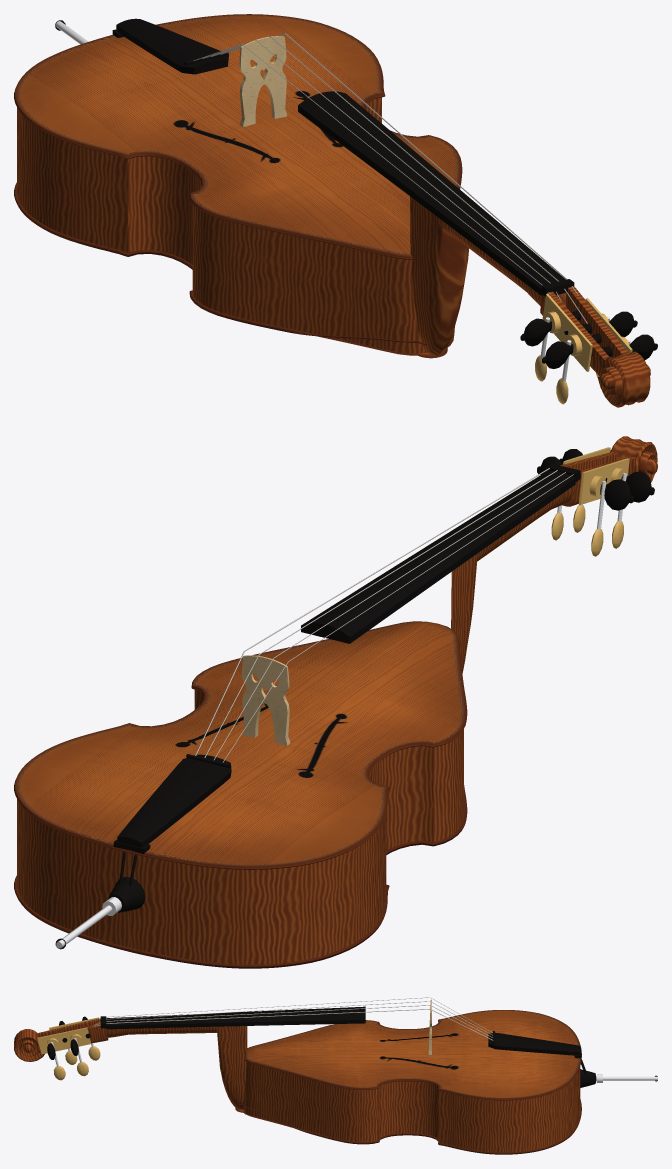
The model's file is bass.glb.
The picture shows the model from 3 angles, top to bottom: view 1: azimuth 30°, elevation 25°; view 2: azimuth 150°, elevation 25°; view 3: azimuth 270°, elevation 25°; orthographic projection. The views are drawn at different scales.
Parts seen in each view (by area): view 1: bass_varnish_plates, bass_varnish_maple, bass_ebony, bass_bridge_maple, bass_strings, bass_brass; view 2: bass_varnish_plates, bass_varnish_maple, bass_ebony, bass_bridge_maple, bass_strings, bass_brass, bass_silver; view 3: bass_varnish_maple, bass_varnish_plates, bass_ebony, bass_strings, bass_brass, bass_silver.
Boxes of the visible parts, <box> form: bass_varnish_plates: <box>14,14,462,358</box>; bass_varnish_maple: <box>17,97,650,407</box>; bass_ebony: <box>55,18,657,368</box>; bass_bridge_maple: <box>239,36,286,126</box>; bass_strings: <box>193,33,587,323</box>; bass_brass: <box>535,294,632,404</box>; bass_varnish_plates: <box>14,621,467,968</box>; bass_varnish_maple: <box>17,436,657,964</box>; bass_ebony: <box>55,449,654,949</box>; bass_bridge_maple: <box>242,655,290,745</box>; bass_strings: <box>195,468,573,762</box>; bass_brass: <box>551,447,629,556</box>; bass_silver: <box>56,473,626,948</box>; bass_varnish_maple: <box>14,1018,580,1152</box>; bass_varnish_plates: <box>235,1010,581,1154</box>; bass_ebony: <box>47,1006,657,1087</box>; bass_strings: <box>93,997,493,1040</box>; bass_brass: <box>37,1017,100,1080</box>; bass_silver: <box>51,1038,657,1082</box>.
Bounding box in the file's own units: 0.6844 × 0.3836 × 2.09.
Materials: 7 (3 with a texture image).
